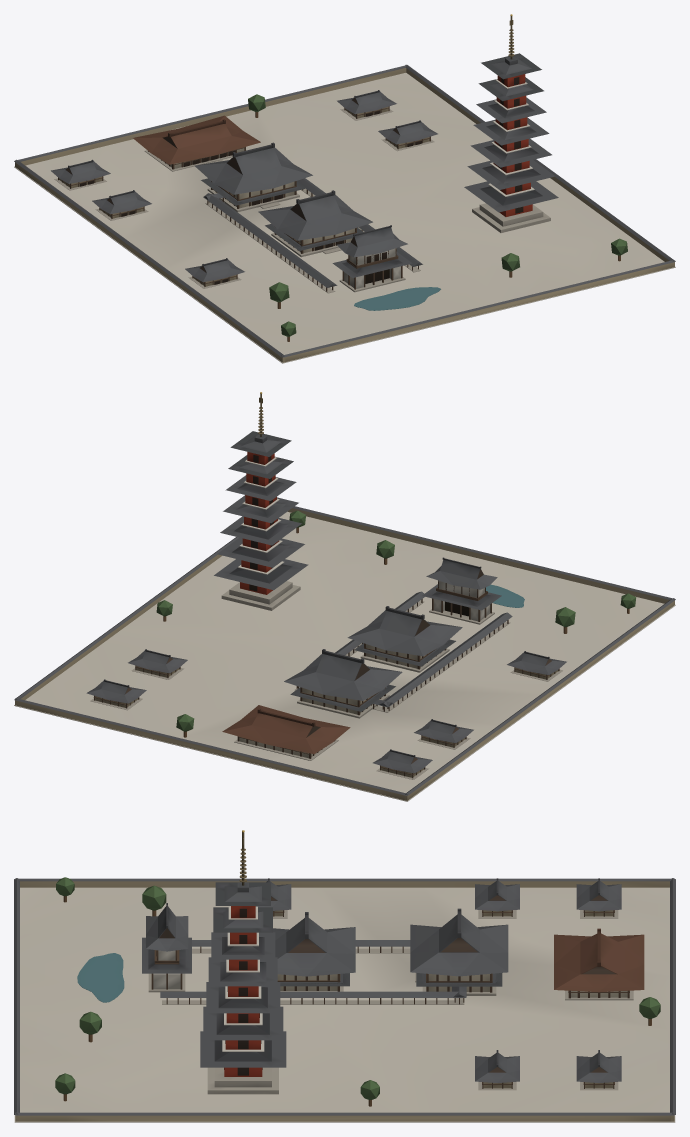
The model's file is shokokuji.glb.
3 views of the same model, one above another, from view 1: azimuth 30°, elevation 25°; view 2: azimuth 150°, elevation 25°; view 3: azimuth 270°, elevation 25° (orthographic). The views are drawn at different scales.
Parts seen in each view (by area): view 1: p0_grounds, p2_roofs, p1_halls; view 2: p0_grounds, p2_roofs, p1_halls; view 3: p0_grounds, p2_roofs, p1_halls.
Boxes of the visible parts, <box> form: p0_grounds: <box>14,64,675,363</box>; p2_roofs: <box>51,14,627,341</box>; p1_halls: <box>54,106,434,293</box>; p0_grounds: <box>14,506,675,801</box>; p2_roofs: <box>86,392,636,773</box>; p1_halls: <box>90,580,562,779</box>; p0_grounds: <box>14,878,675,1122</box>; p2_roofs: <box>55,830,660,1106</box>; p1_halls: <box>148,910,633,1090</box>.
Bounding box in the file's own units: 220 × 108 × 260.
